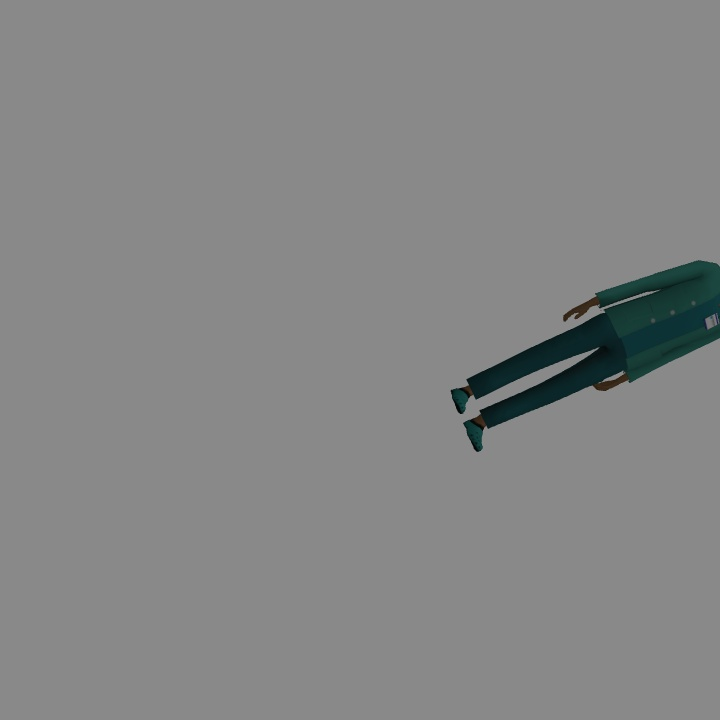victim: (455, 261, 720, 452)
